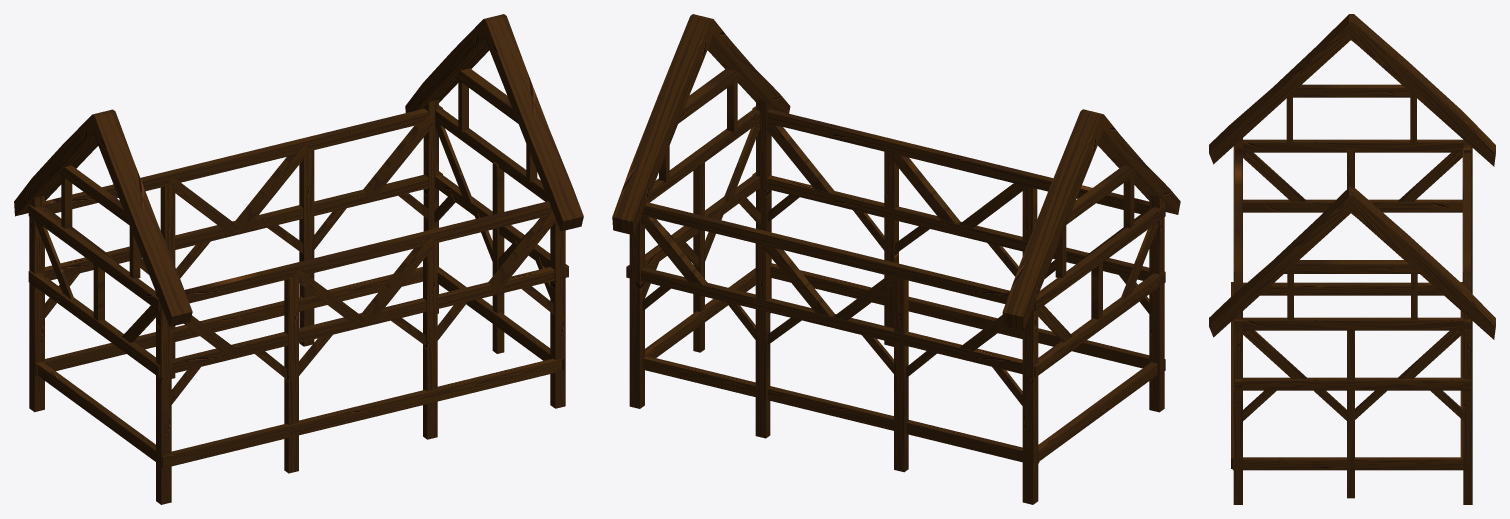
Rendered from BuildingFirst.fbx.
3 renders of one model, left to right at view 1: azimuth 30°, elevation 25°; view 2: azimuth 150°, elevation 25°; view 3: azimuth 270°, elevation 25°, orthographic. The views are drawn at different scales.
Visible parts, largest first — view 1: BuildingFirst; view 2: BuildingFirst; view 3: BuildingFirst.
Part boxes in pixels (x1,y1,x2,y2): BuildingFirst: (14, 14, 583, 504); BuildingFirst: (612, 14, 1180, 504); BuildingFirst: (1209, 14, 1495, 504).
Size of the model in its own units: 7.66 by 6.09 by 5.09.
Materials: 1 (1 with a texture image).
